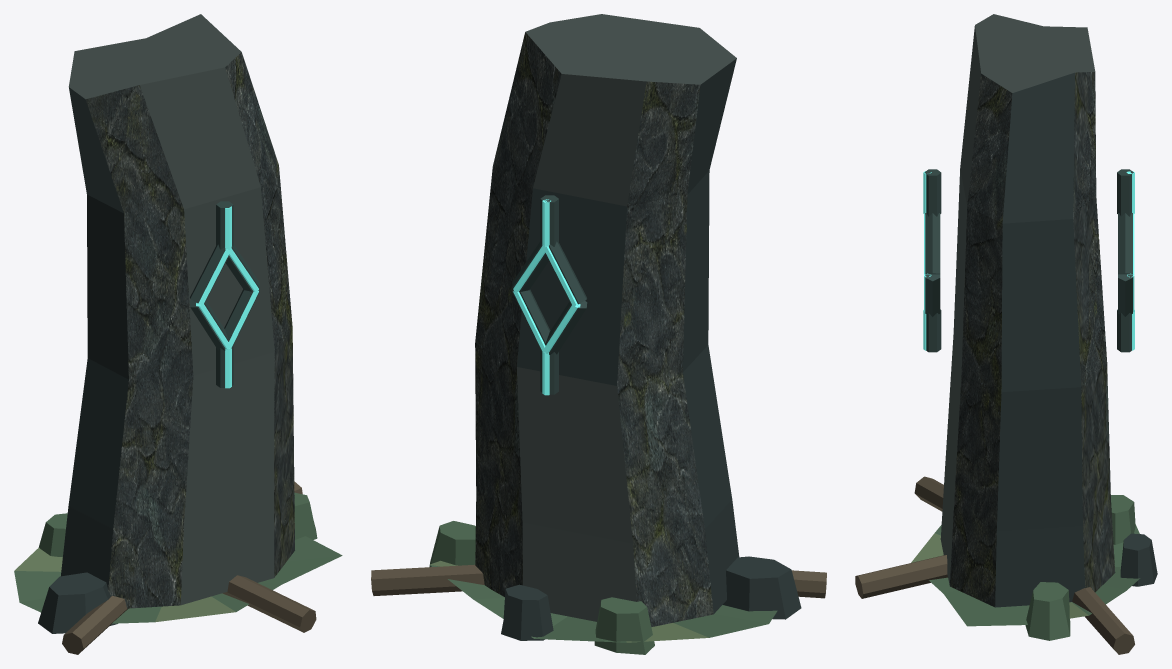
Rendered from lioraen_moonstone.glb.
The picture shows the model from 3 angles, left to right: view 1: azimuth 30°, elevation 25°; view 2: azimuth 150°, elevation 25°; view 3: azimuth 270°, elevation 25°; orthographic projection. The views are drawn at different scales.
Visible parts, largest first — view 1: Lioraen spring waystone; view 2: Lioraen spring waystone; view 3: Lioraen spring waystone.
Part boxes in pixels (bbox=[...]): Lioraen spring waystone: bbox=[14, 14, 342, 654]; Lioraen spring waystone: bbox=[371, 14, 826, 654]; Lioraen spring waystone: bbox=[855, 14, 1157, 654].
Bounding box in the file's own units: 1.66 × 2.56 × 1.33.
Materials: 8 (1 with a texture image).
